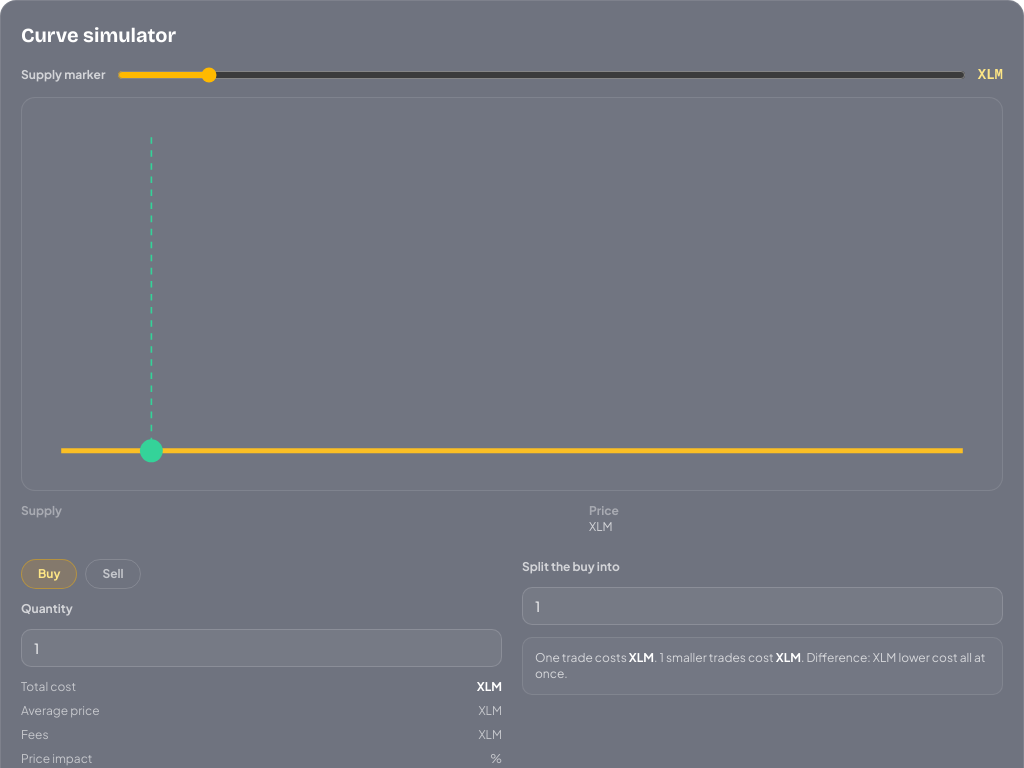
Scenario: CurveSimulator (#1411) › compares a single trade with several smaller trades
Replace the text in the number field with test id "curve-quantity" with "5": (262,648) [21,629,502,667]
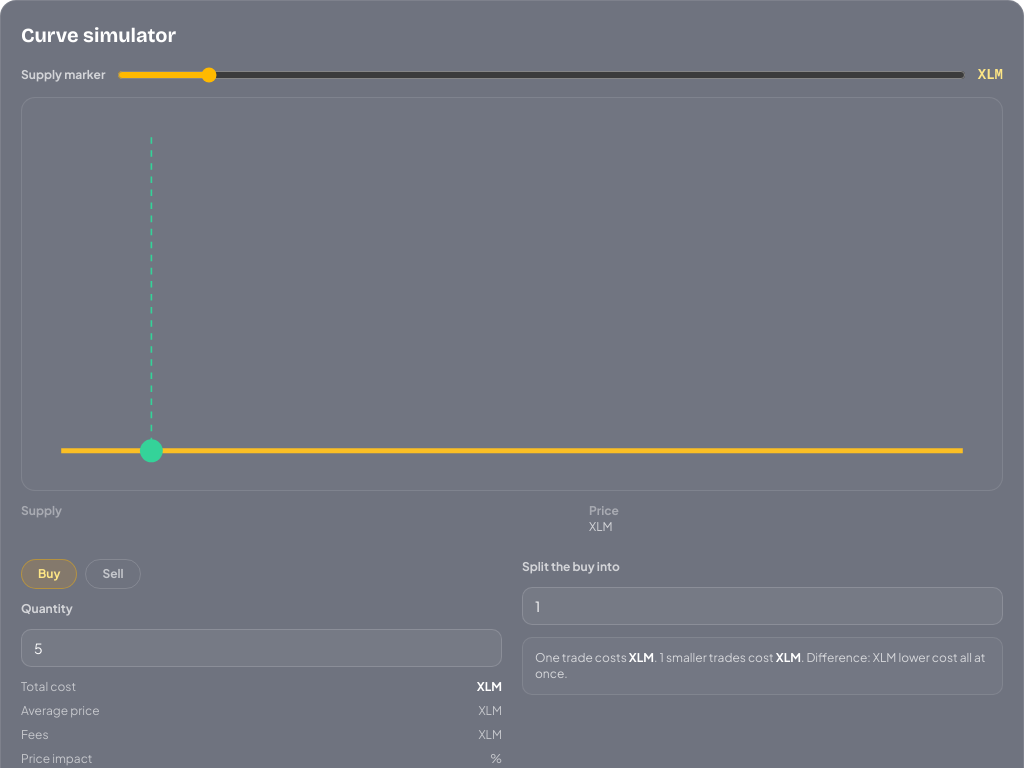
Replace the text in the number field with test id "curve-chunk-count" with "5": (762,606) [522,587,1003,625]
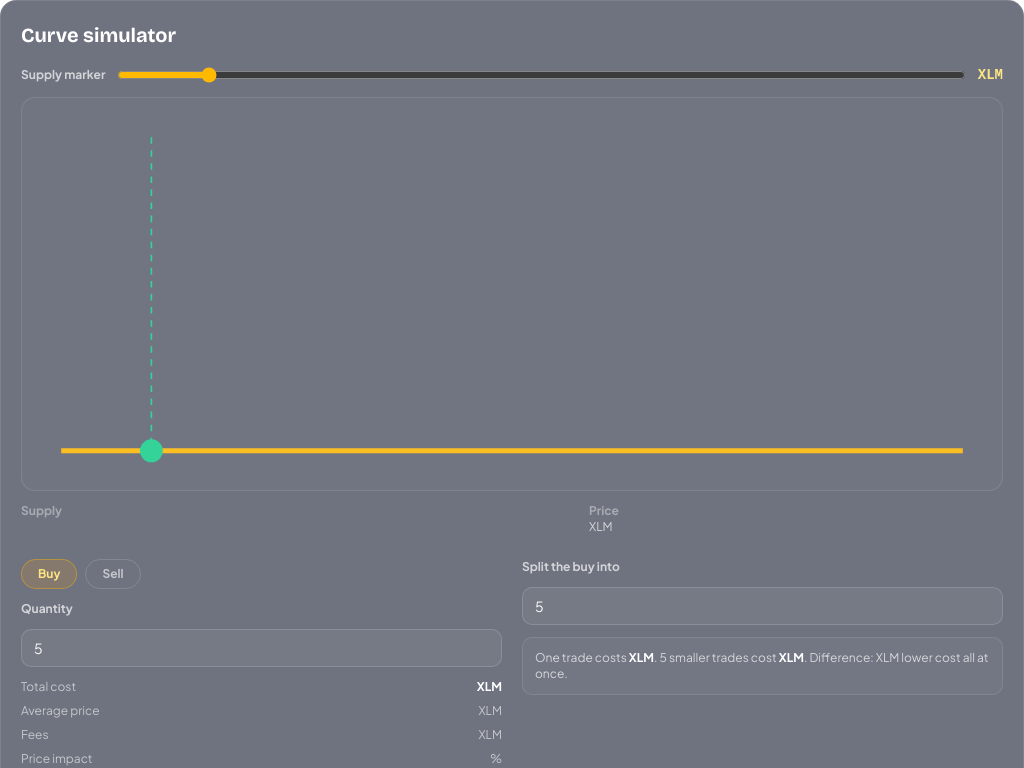
Now the element with test id "curve-split-comparison" shows "5 smaller trades cost", box [522,637,1003,695]
